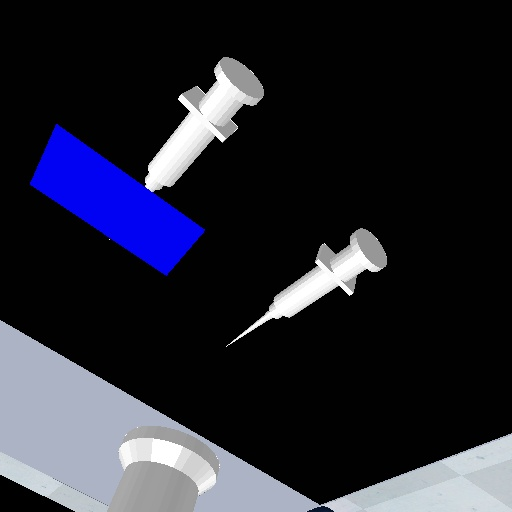jeringuilla: (222, 222, 391, 351), (141, 50, 268, 193)
